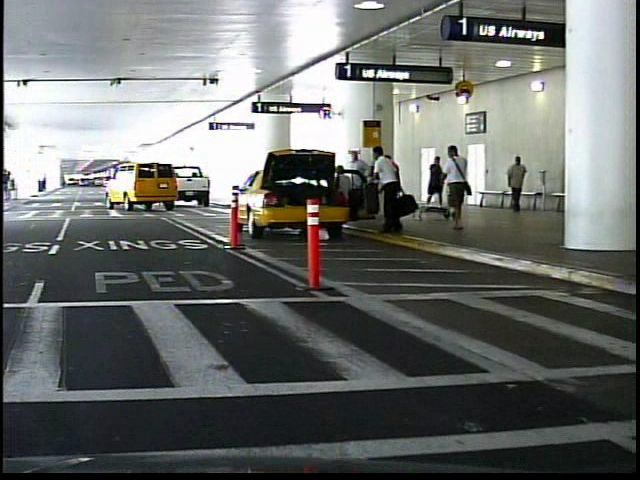person: (438, 145, 475, 233), (498, 151, 524, 213)
